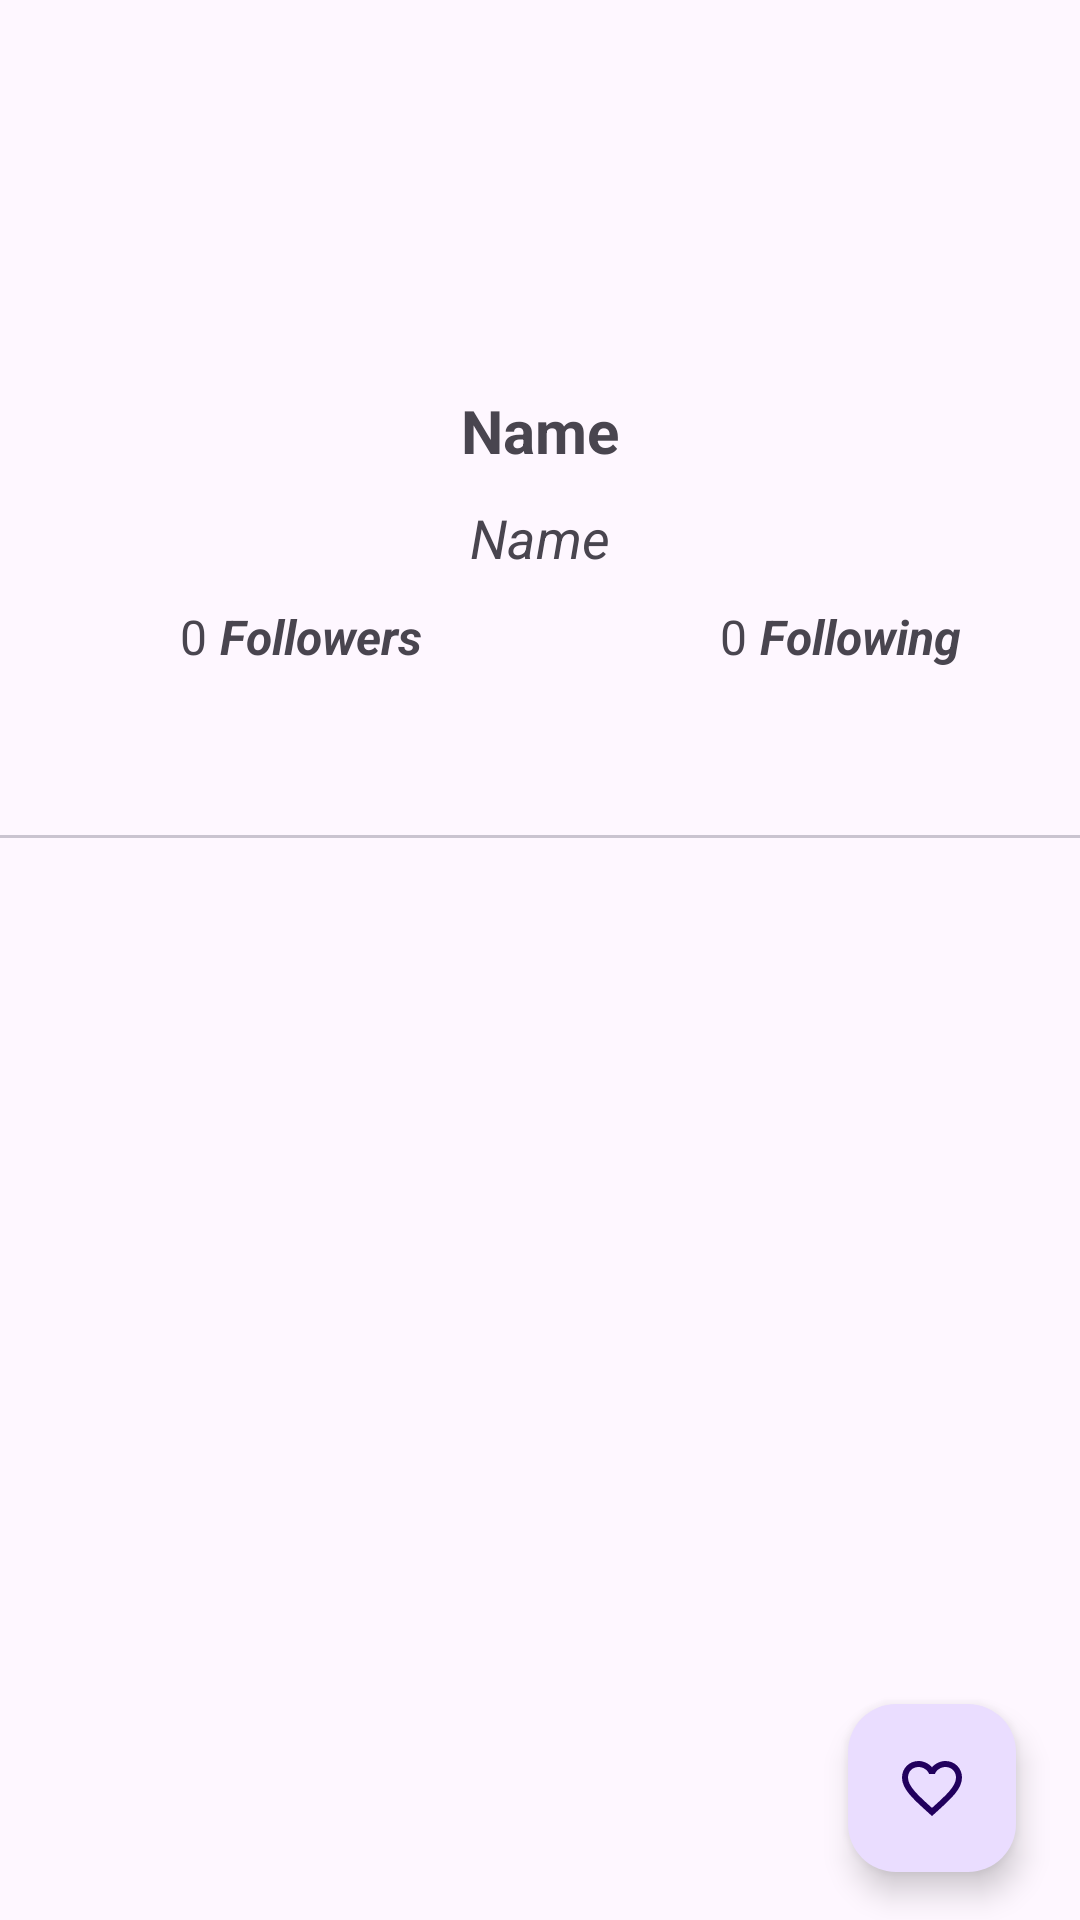

Where icons sit on this 1080×1920 app screen, as (x1,y1,x2,y2):
Favourite: (848,1704,1016,1872)
